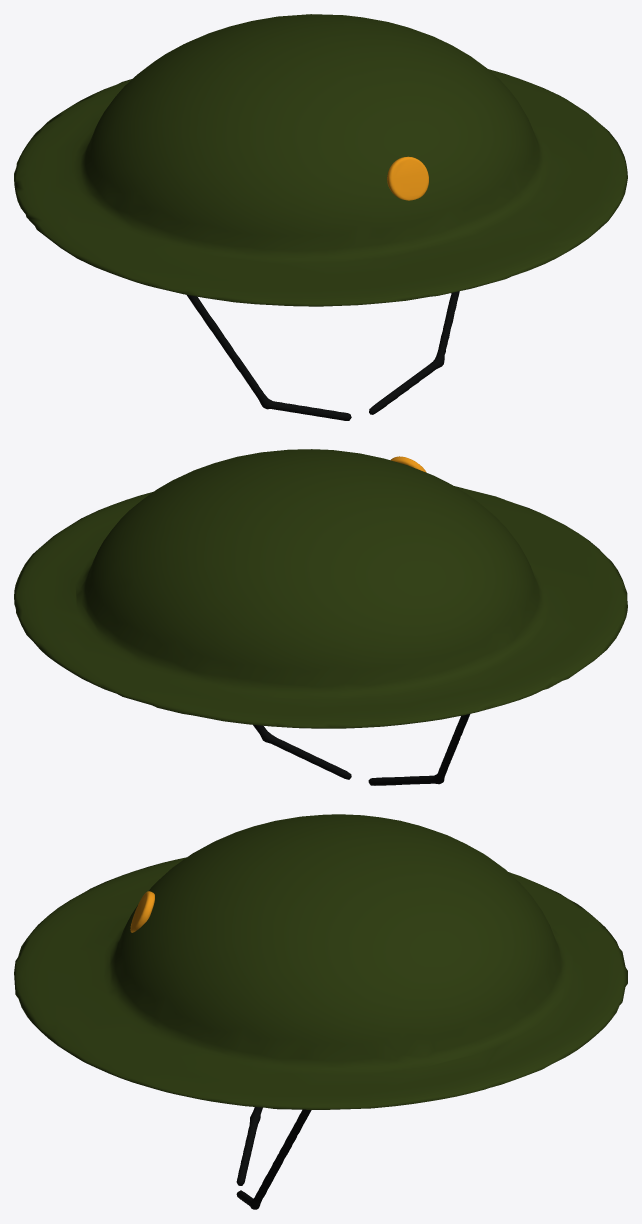
Rendered from mucoi.glb.
The picture shows the model from 3 angles, top to bottom: view 1: azimuth 30°, elevation 25°; view 2: azimuth 150°, elevation 25°; view 3: azimuth 270°, elevation 25°; orthographic projection.
Parts seen in each view (by area): view 1: Mu_Coi, Quai_Coi, Huy_Hieu; view 2: Mu_Coi, Quai_Coi; view 3: Mu_Coi, Quai_Coi, Huy_Hieu.
Part boxes in pixels (x1,y1,x2,y2): Mu_Coi: [14, 14, 627, 306]; Quai_Coi: [186, 291, 459, 420]; Huy_Hieu: [387, 156, 428, 200]; Mu_Coi: [14, 449, 627, 728]; Quai_Coi: [253, 714, 470, 785]; Mu_Coi: [14, 814, 627, 1109]; Quai_Coi: [236, 1107, 311, 1209]; Huy_Hieu: [130, 891, 154, 932].
Size of the model in its own units: 0.4333 by 0.2619 by 0.4237.
